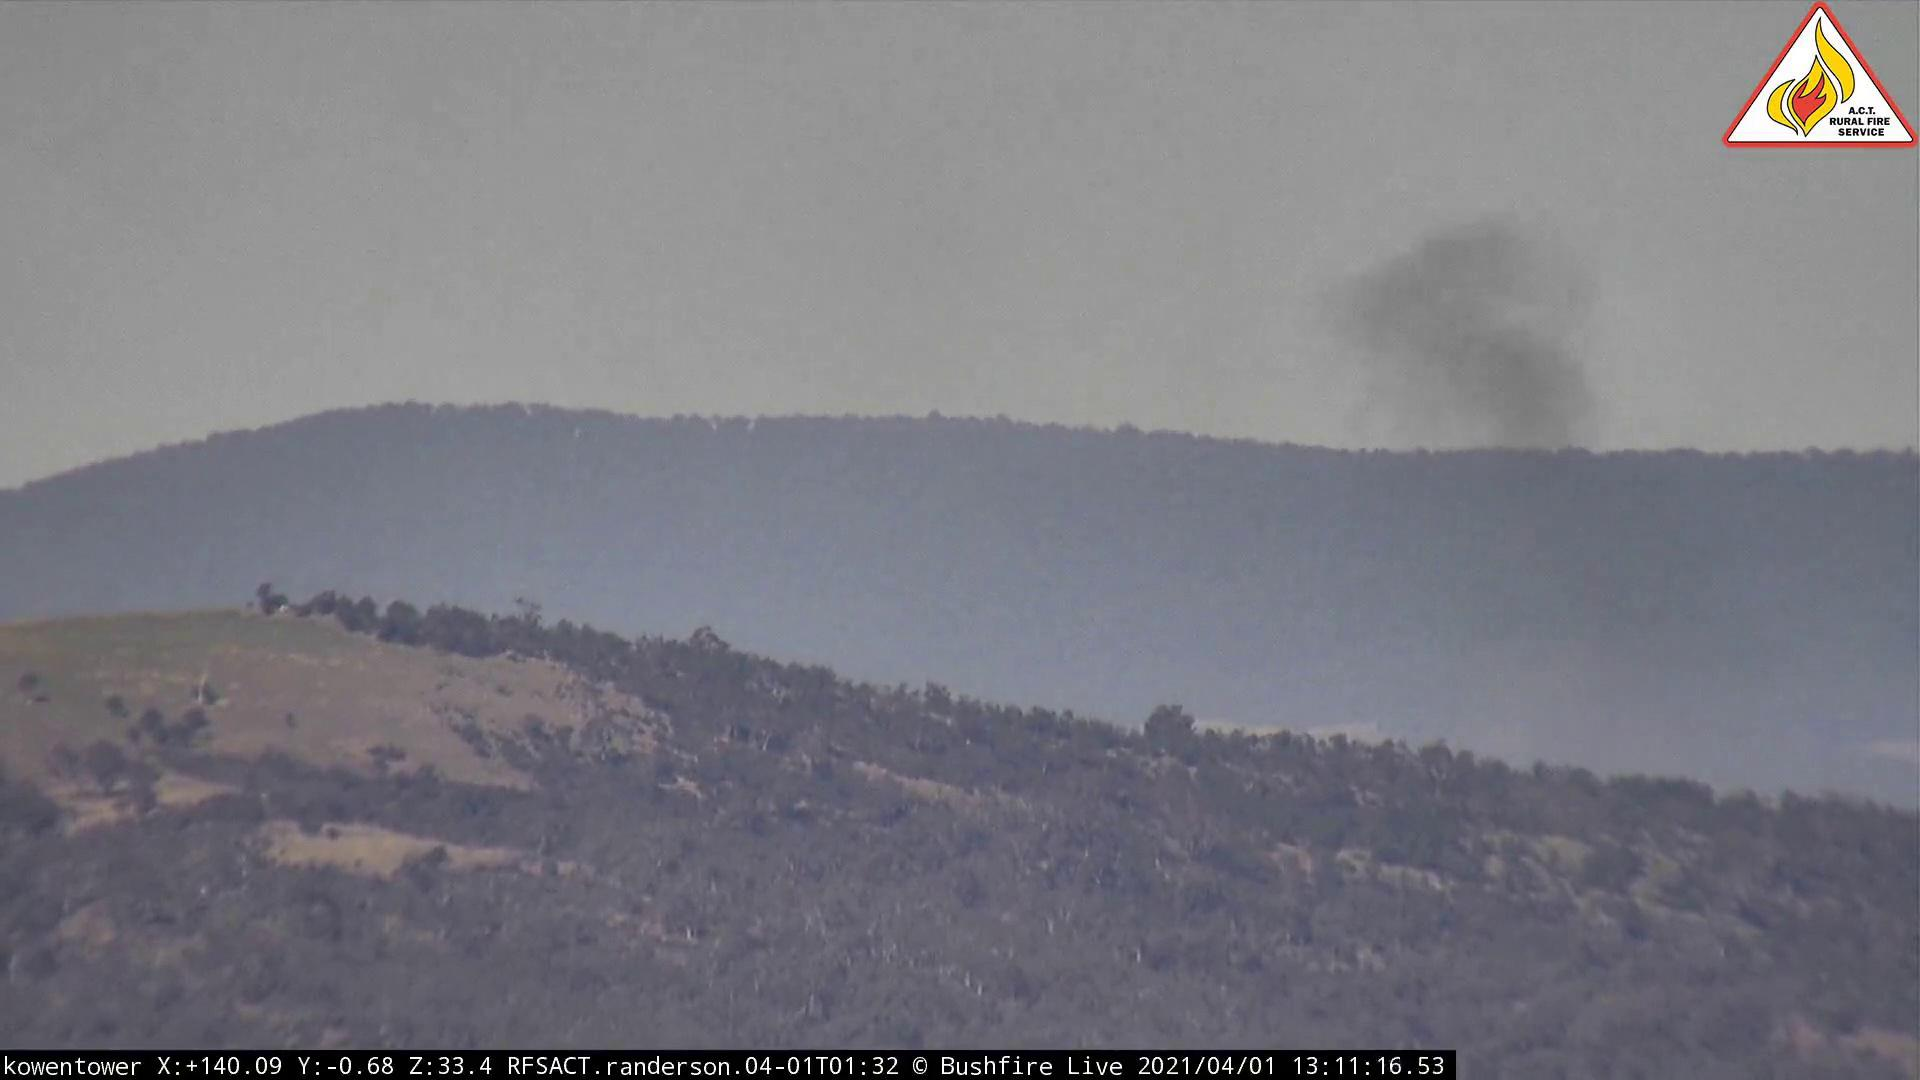Smoke: (1276, 202, 1844, 841)
